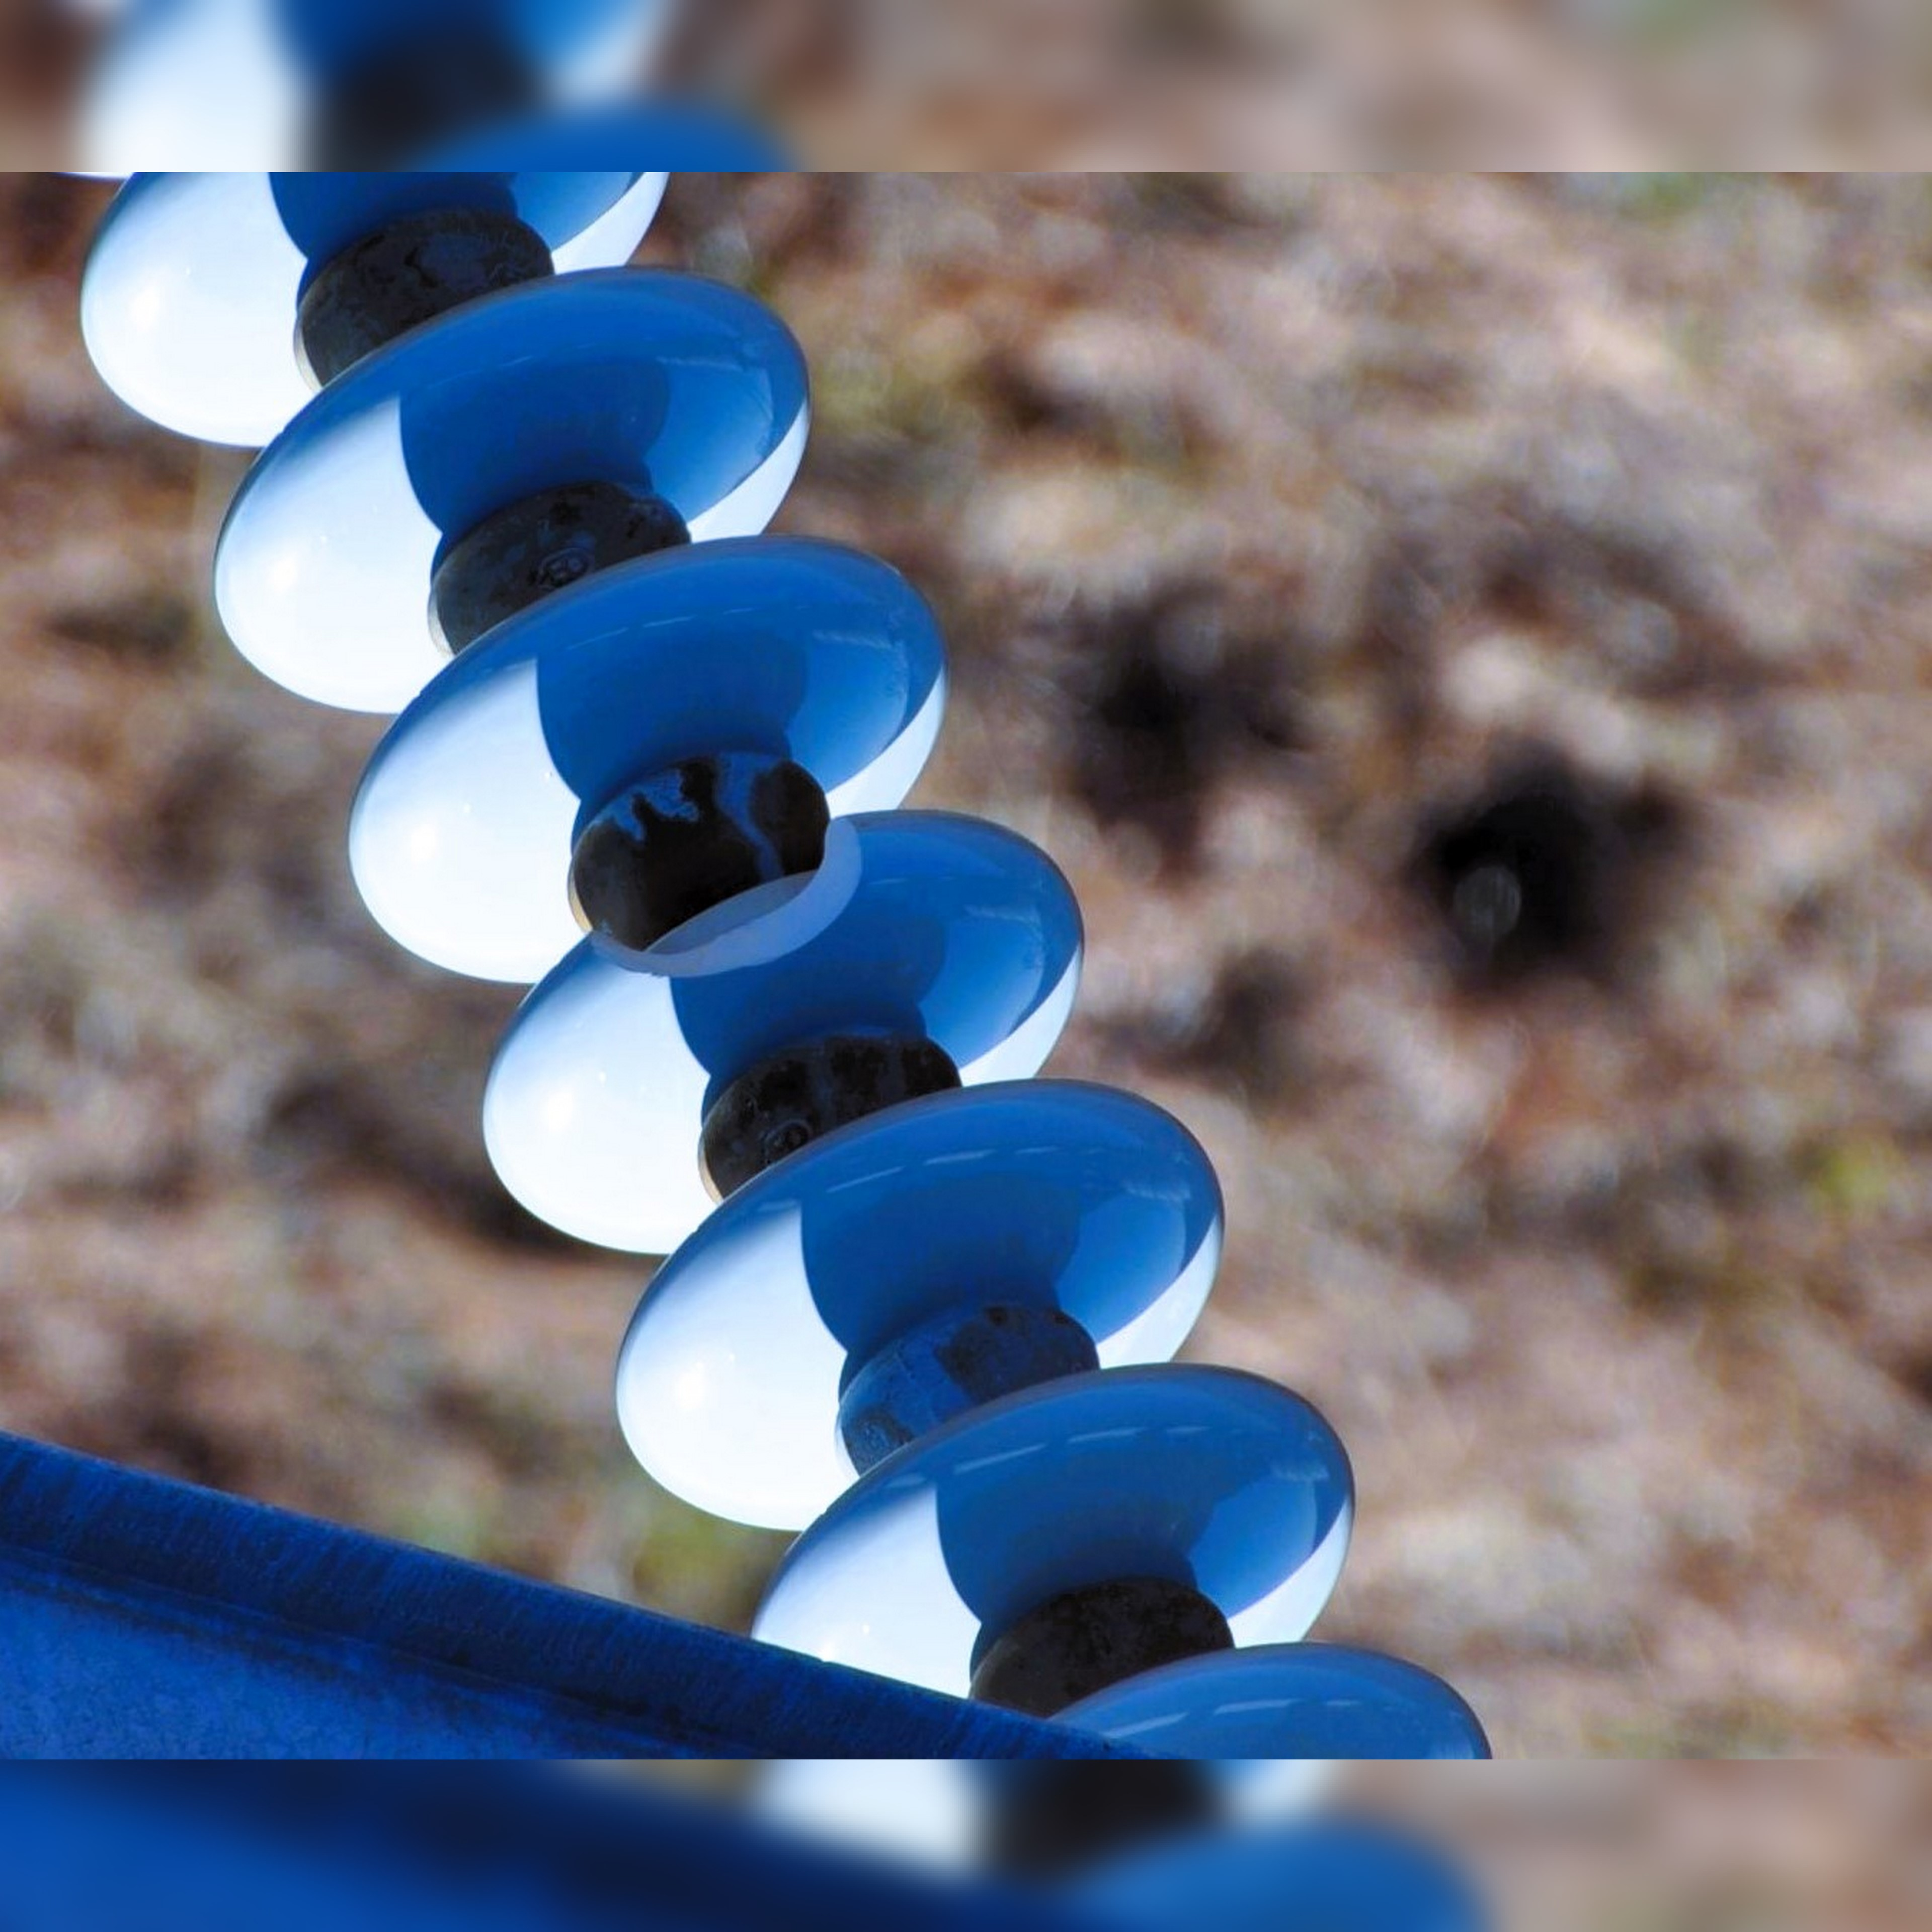insulator breakage: (474, 778, 1102, 1251)
